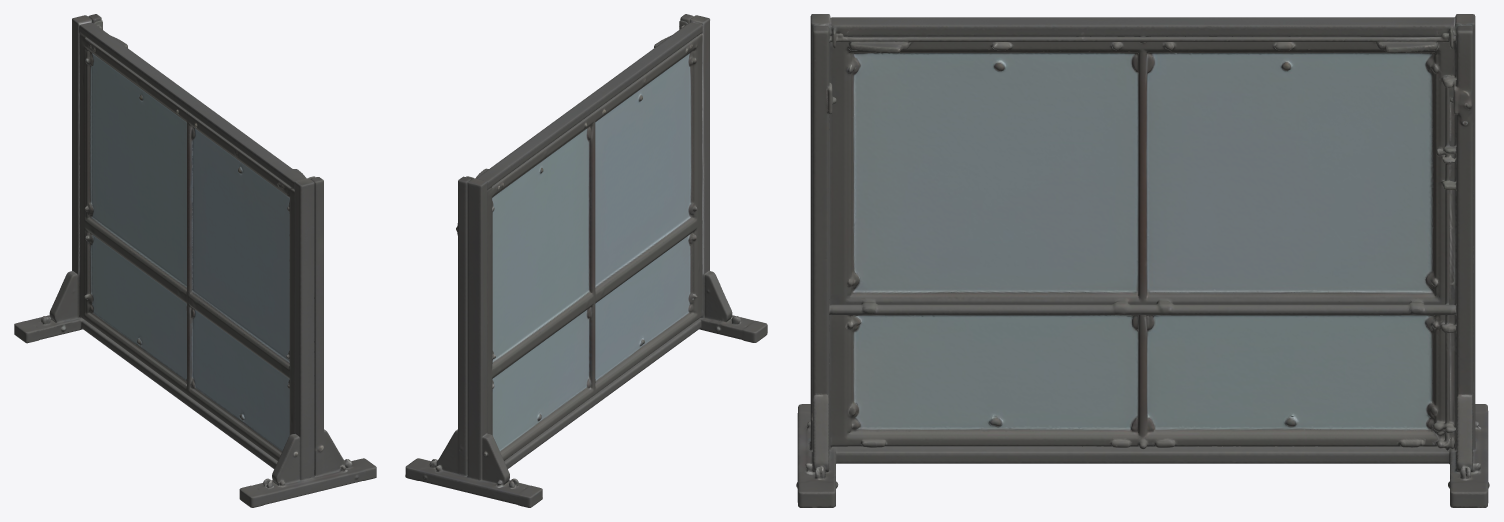
Rendered from arch_glass_barrier.glb.
The picture shows the model from 3 angles, left to right: view 1: azimuth 30°, elevation 25°; view 2: azimuth 150°, elevation 25°; view 3: azimuth 270°, elevation 25°; orthographic projection. The views are drawn at different scales.
Parts seen in each view (by area): view 1: tripo_node_7fcb3078-808f-4030-9b7c-97f93c8b896c; view 2: tripo_node_7fcb3078-808f-4030-9b7c-97f93c8b896c; view 3: tripo_node_7fcb3078-808f-4030-9b7c-97f93c8b896c.
Boxes of the visible parts, x1,y1,x2,y2 form: tripo_node_7fcb3078-808f-4030-9b7c-97f93c8b896c: (14, 14, 376, 507); tripo_node_7fcb3078-808f-4030-9b7c-97f93c8b896c: (405, 14, 767, 507); tripo_node_7fcb3078-808f-4030-9b7c-97f93c8b896c: (796, 14, 1489, 507).
Size of the model in its own units: 0.3046 by 0.7067 by 1.
Materials: 1 (1 with a texture image).
